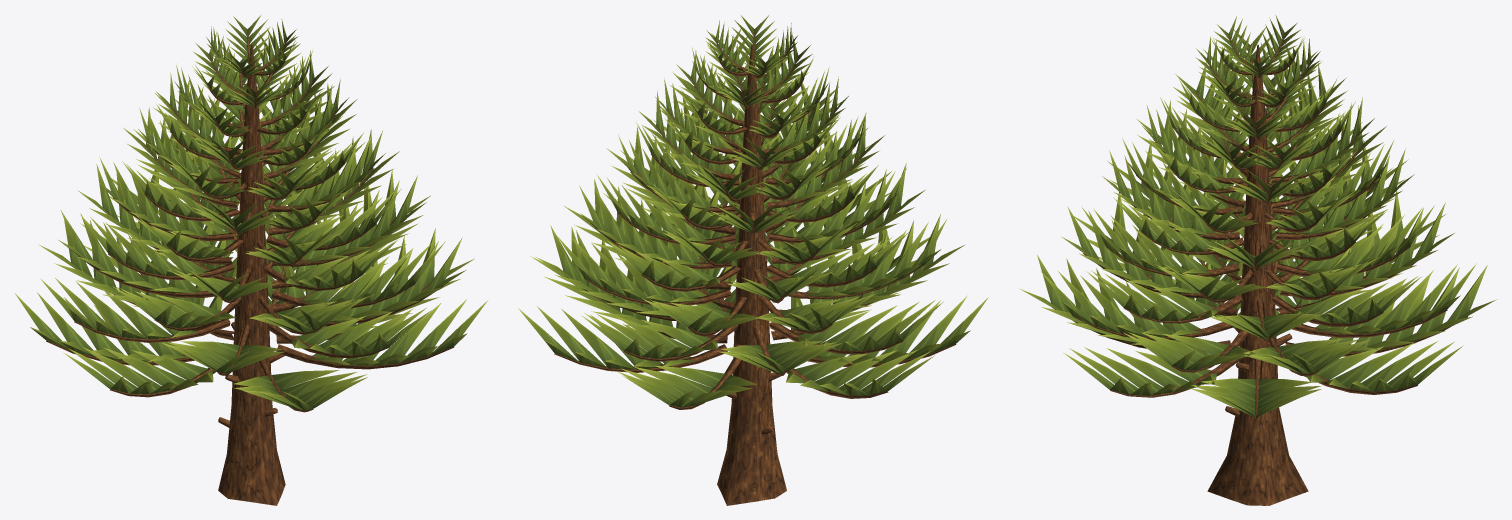
The model's file is araucaria_2.glb.
3 views of the same model, side by side, from view 1: azimuth 30°, elevation 25°; view 2: azimuth 150°, elevation 25°; view 3: azimuth 270°, elevation 25° (orthographic).
Visible parts, largest first — view 1: araucaria_2; view 2: araucaria_2; view 3: araucaria_2.
Boxes of the visible parts, bbox=[...] form: araucaria_2: bbox=[15, 15, 487, 505]; araucaria_2: bbox=[518, 15, 988, 505]; araucaria_2: bbox=[1020, 15, 1496, 505].
Bounding box in the file's own units: 6.32 × 6.73 × 6.37.
Materials: 2 (2 with a texture image).
